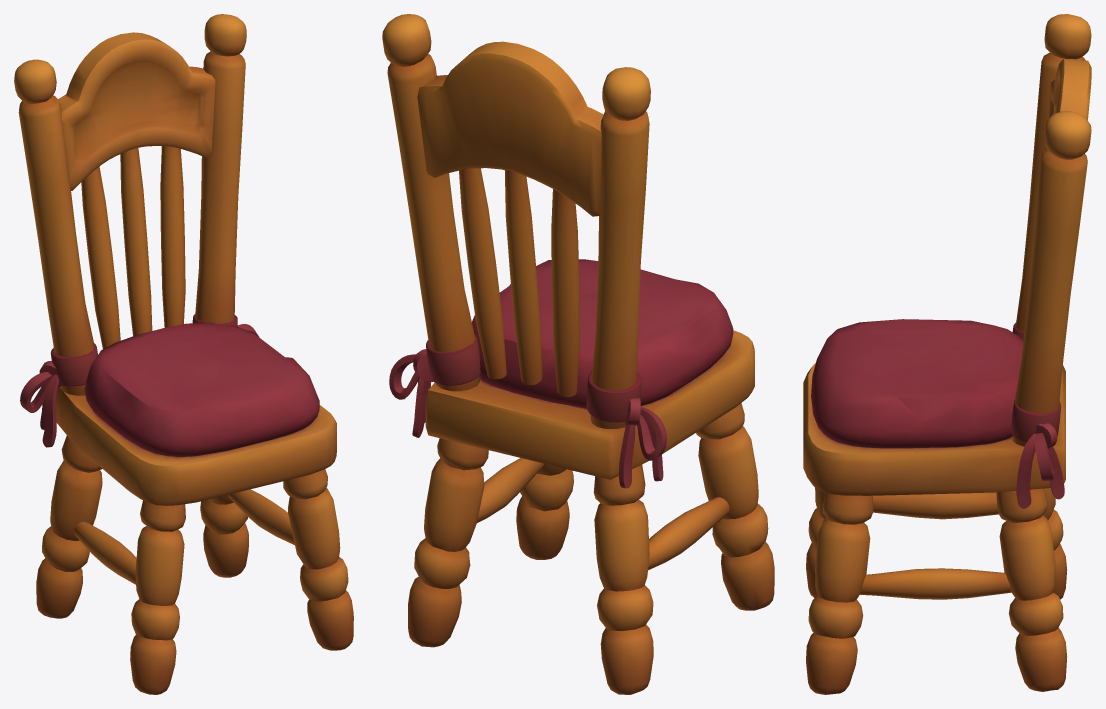
The model's file is giant_chair_v3.glb.
3 renders of one model, left to right at view 1: azimuth 30°, elevation 25°; view 2: azimuth 150°, elevation 25°; view 3: azimuth 270°, elevation 25°, orthographic. The views are drawn at different scales.
Parts seen in each view (by area): view 1: giant_chair; view 2: giant_chair; view 3: giant_chair.
Boxes of the visible parts, x1,y1,x2,y2 form: giant_chair: [14, 14, 353, 694]; giant_chair: [382, 14, 774, 694]; giant_chair: [803, 14, 1091, 694].
Bounding box in the file's own units: 4 × 8.85 × 4.
Materials: 1 (1 with a texture image).
